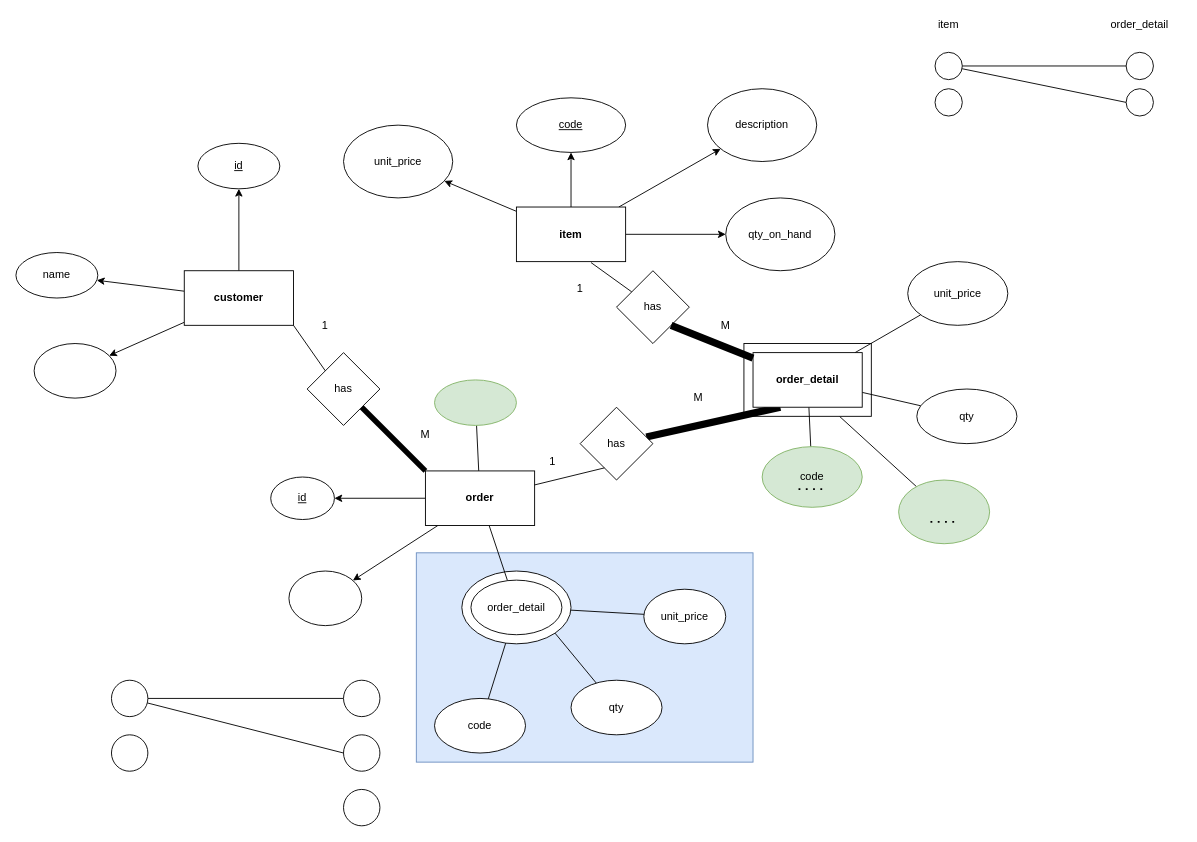
The diagram is 1197 pixels wide and 842 high, and some of its shapes have lost their labels. Here are the shapes that lost their labels. From the top down, the centre of each, then its label:
At (74,370): "address".
At (475,402): "customer_id".
At (944,511): "order_id".
At (325,598): "date".
